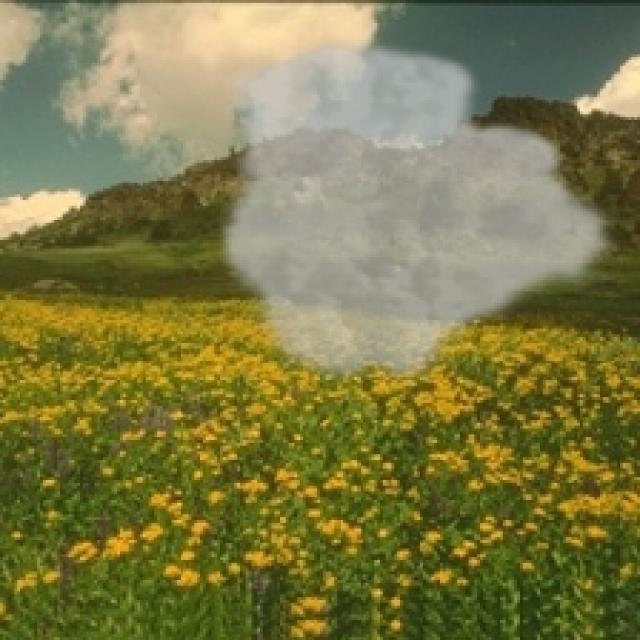smoke: (214, 34, 620, 392)
